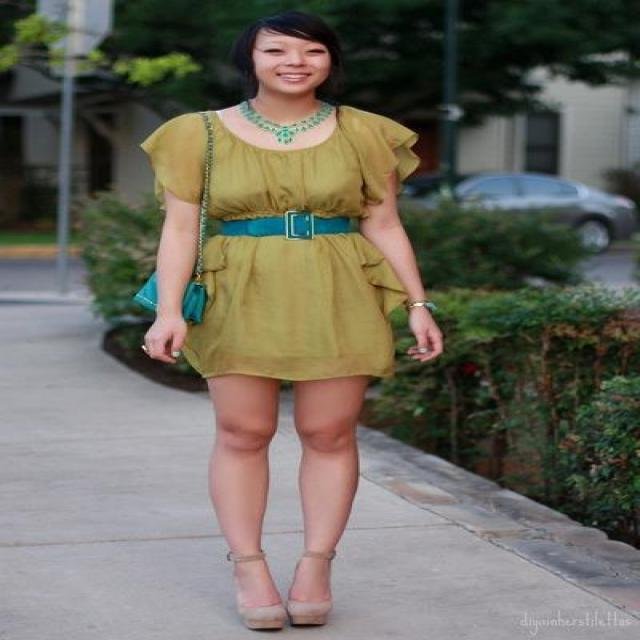bag: (134, 273, 210, 319)
dress: (141, 106, 419, 388)
shoe: (250, 609, 323, 632)
